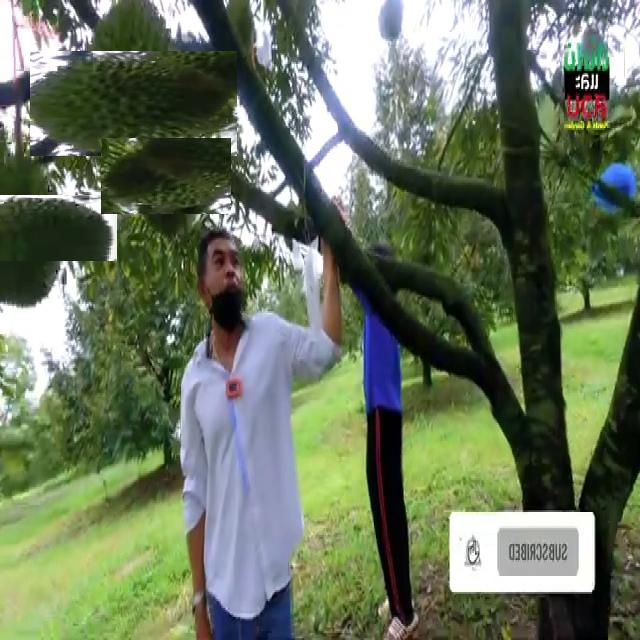durian: (55, 26, 212, 182), (0, 170, 93, 287), (114, 124, 217, 228)
